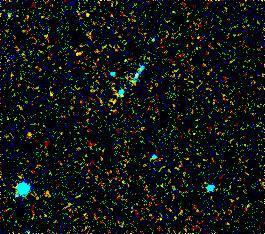star: (15, 122, 45, 152)
